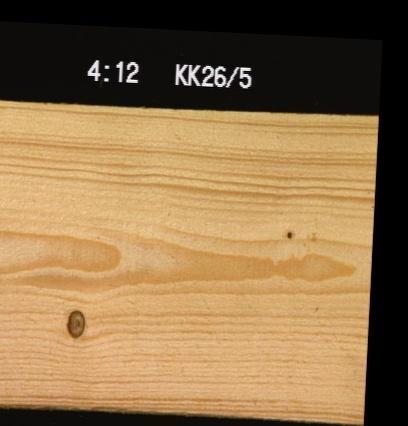dry_knot: (62, 305, 85, 338)
small_knot: (281, 225, 294, 240)
